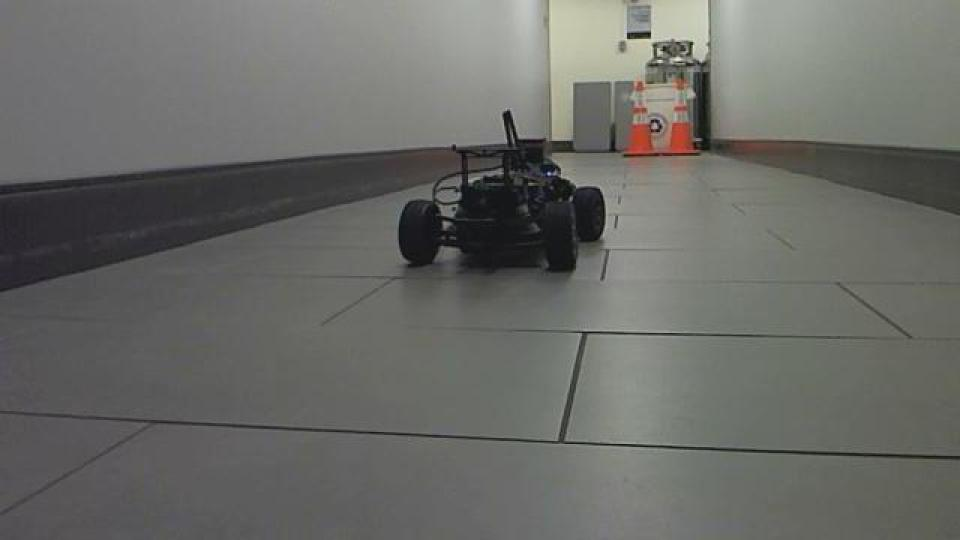car: (394, 107, 608, 274)
